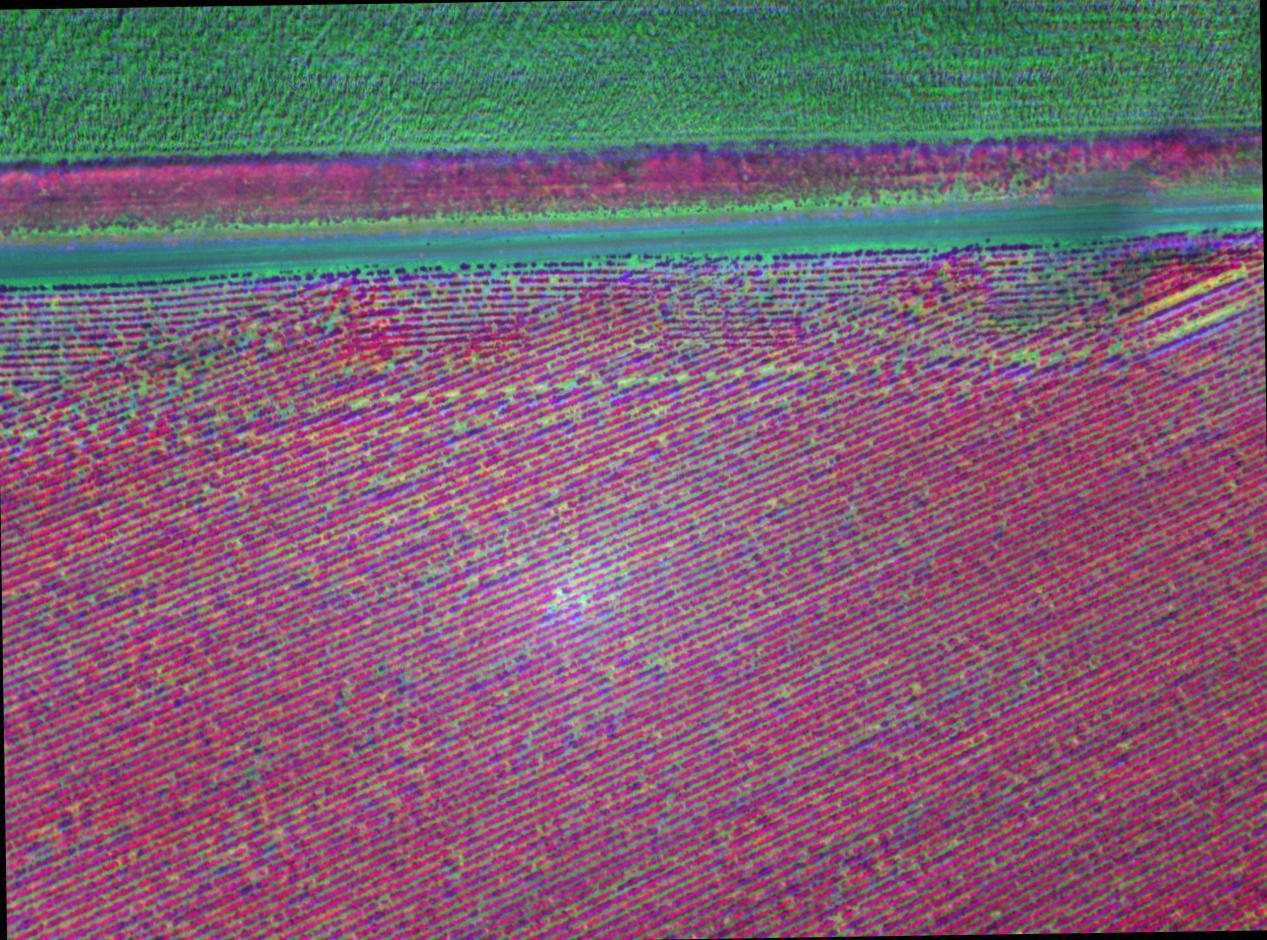dc: (562, 384, 574, 391), (506, 388, 514, 396), (25, 429, 34, 436), (1015, 353, 1023, 359)
